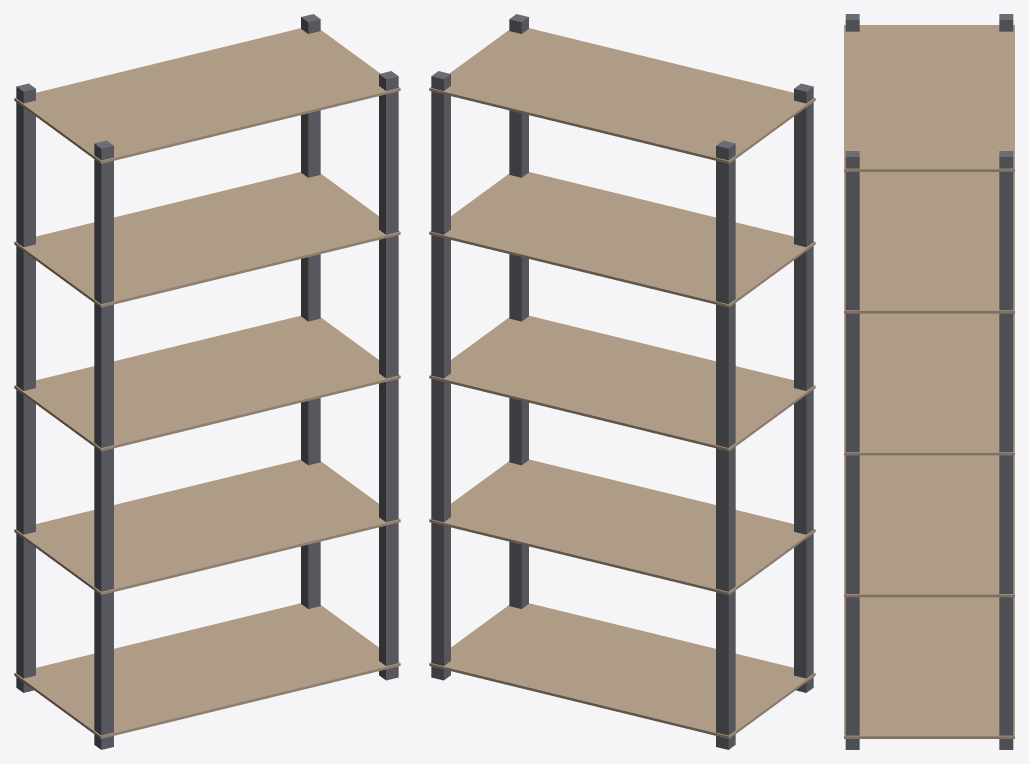
Rendered from shelve.fbx.
3 views of the same model, side by side, from view 1: azimuth 30°, elevation 25°; view 2: azimuth 150°, elevation 25°; view 3: azimuth 270°, elevation 25° (orthographic).
Visible parts, largest first — view 1: shelve; view 2: shelve; view 3: shelve.
Boxes of the visible parts, box(x1,y1,x2,y2) form: shelve: box(14, 14, 400, 749); shelve: box(429, 14, 815, 749); shelve: box(844, 14, 1014, 749).
Bounding box in the file's own units: 120 × 230 × 60.
